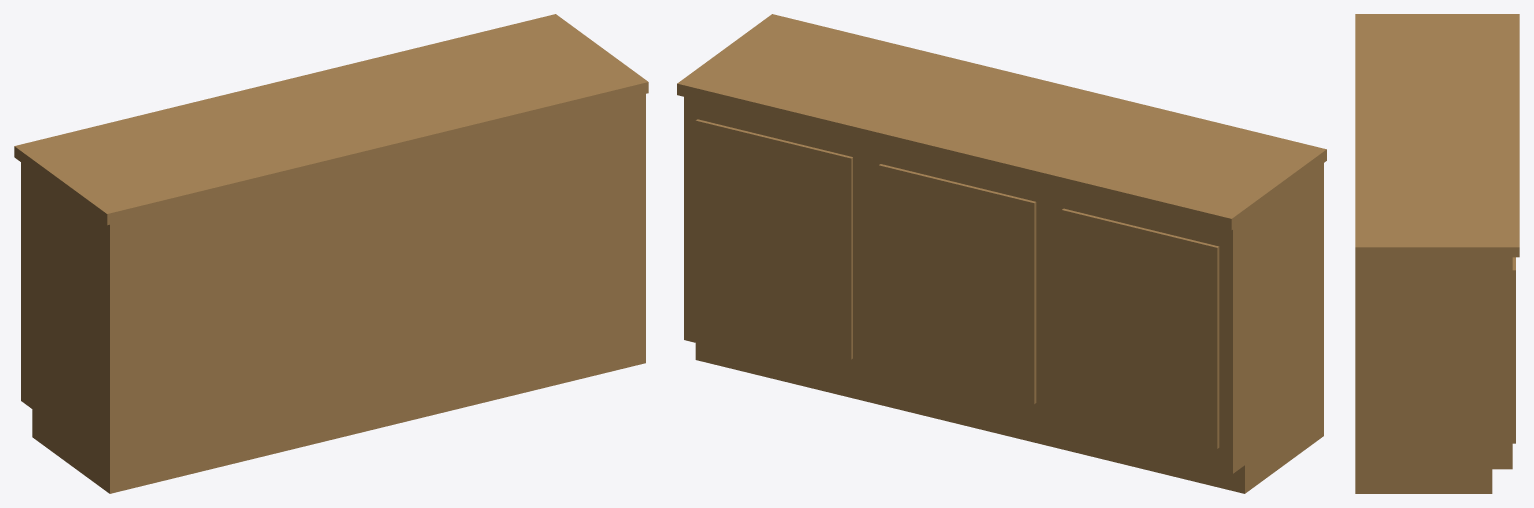
The model's file is parametric-counter-2nd-pub.glb.
The picture shows the model from 3 angles, left to right: view 1: azimuth 30°, elevation 25°; view 2: azimuth 150°, elevation 25°; view 3: azimuth 270°, elevation 25°; orthographic projection. The views are drawn at different scales.
Parts seen in each view (by area): view 1: parametric-counter-2nd-pub; view 2: parametric-counter-2nd-pub; view 3: parametric-counter-2nd-pub.
Part boxes in pixels (x1,y1,x2,y2): parametric-counter-2nd-pub: (14,14,648,493); parametric-counter-2nd-pub: (677,14,1326,493); parametric-counter-2nd-pub: (1355,14,1519,493).
Size of the model in its own units: 2.02 by 1 by 0.6.
